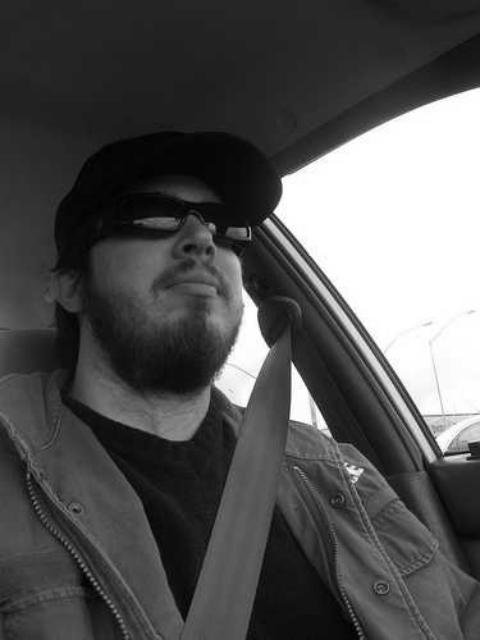Seatbelt: (174, 298, 304, 640)
